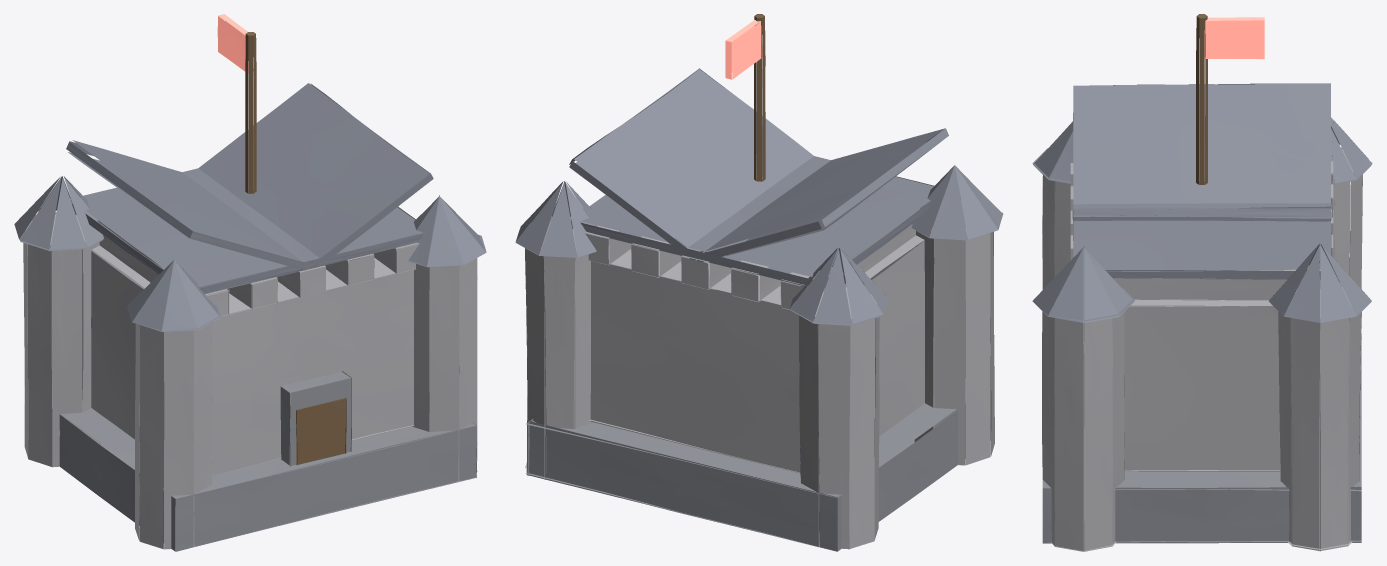
Rendered from castle.glb.
3 views of the same model, side by side, from view 1: azimuth 30°, elevation 25°; view 2: azimuth 150°, elevation 25°; view 3: azimuth 270°, elevation 25° (orthographic). The views are drawn at different scales.
Visible parts, largest first — view 1: KeepBase; view 2: KeepBase; view 3: KeepBase.
Boxes of the visible parts, x1,y1,x2,y2 form: KeepBase: (14, 14, 486, 551); KeepBase: (515, 14, 1003, 551); KeepBase: (1032, 14, 1372, 551).
Size of the model in its own units: 3.49 by 4.06 by 2.78.
